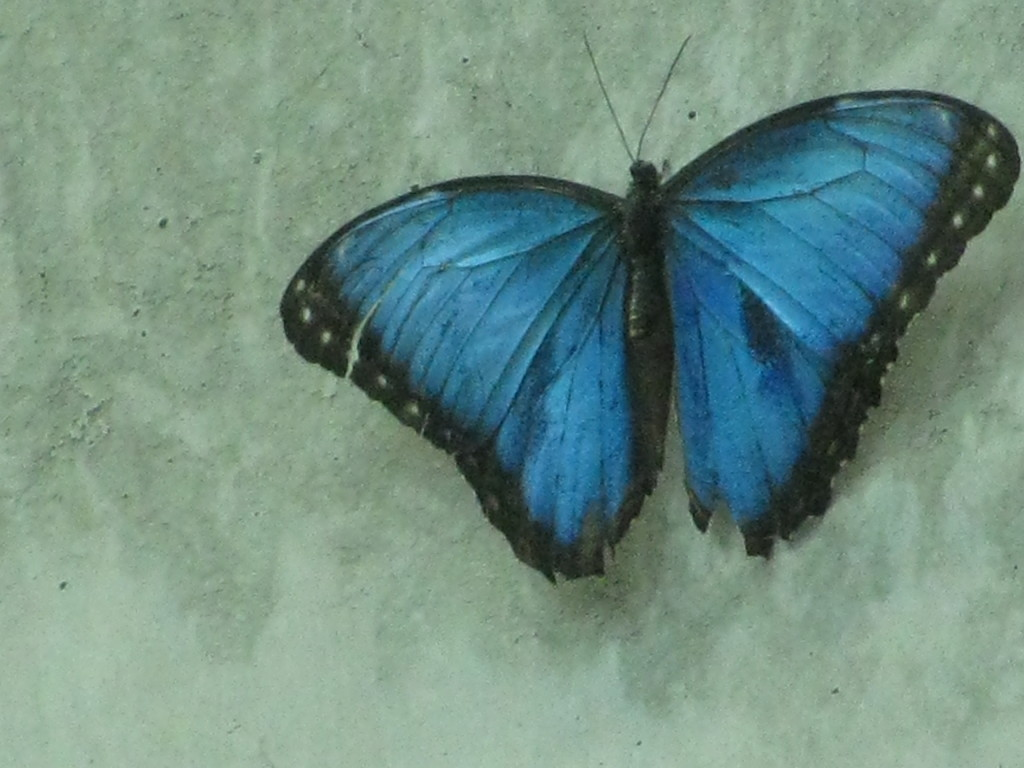Butterfly: (300, 77, 1015, 577)
